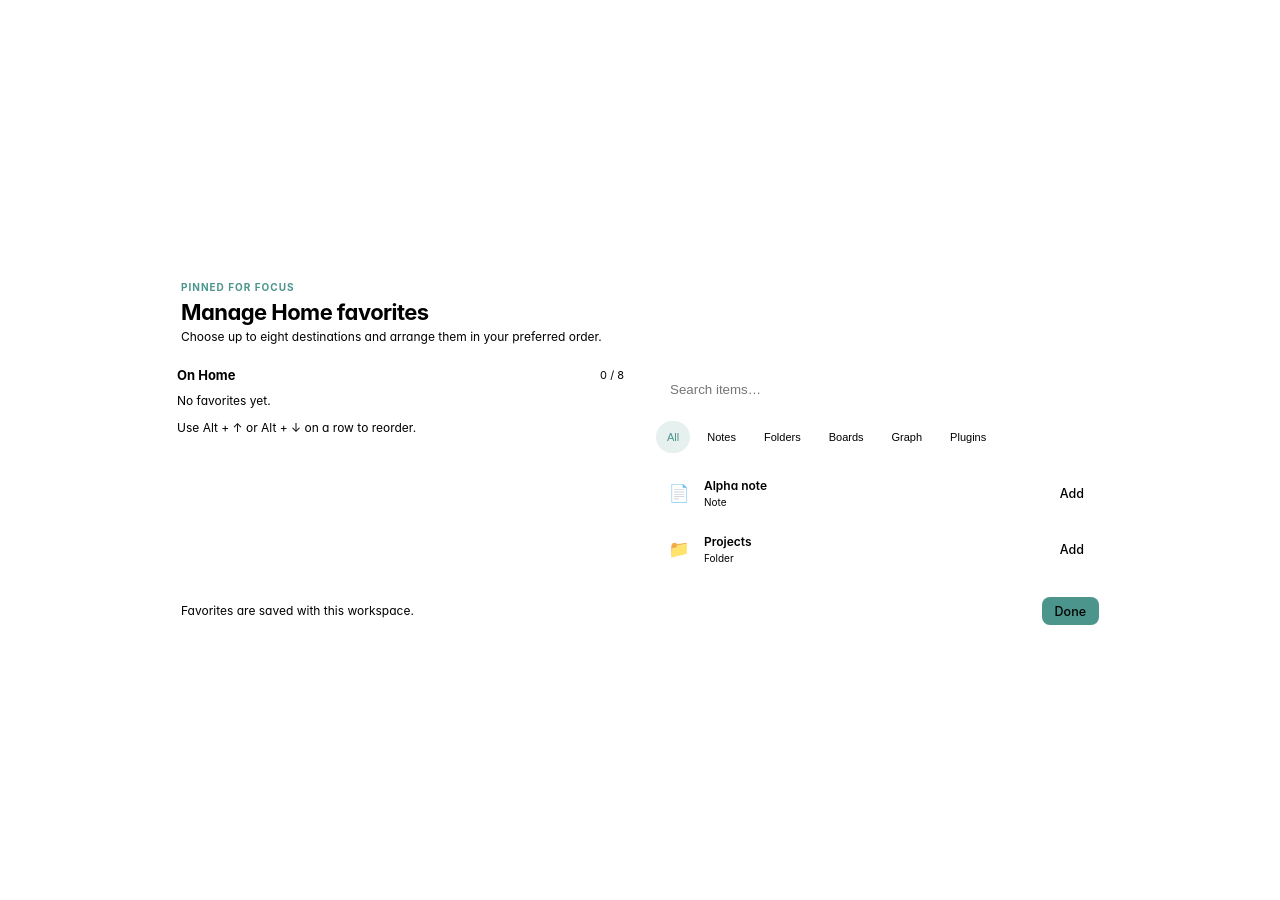
Test case: WorkspaceHomeFavoritesManager › searches and filters the available library
Type "projects" into the search field with placeholder "Search items…" at (880, 389), box left=668, top=380, right=1091, bottom=398
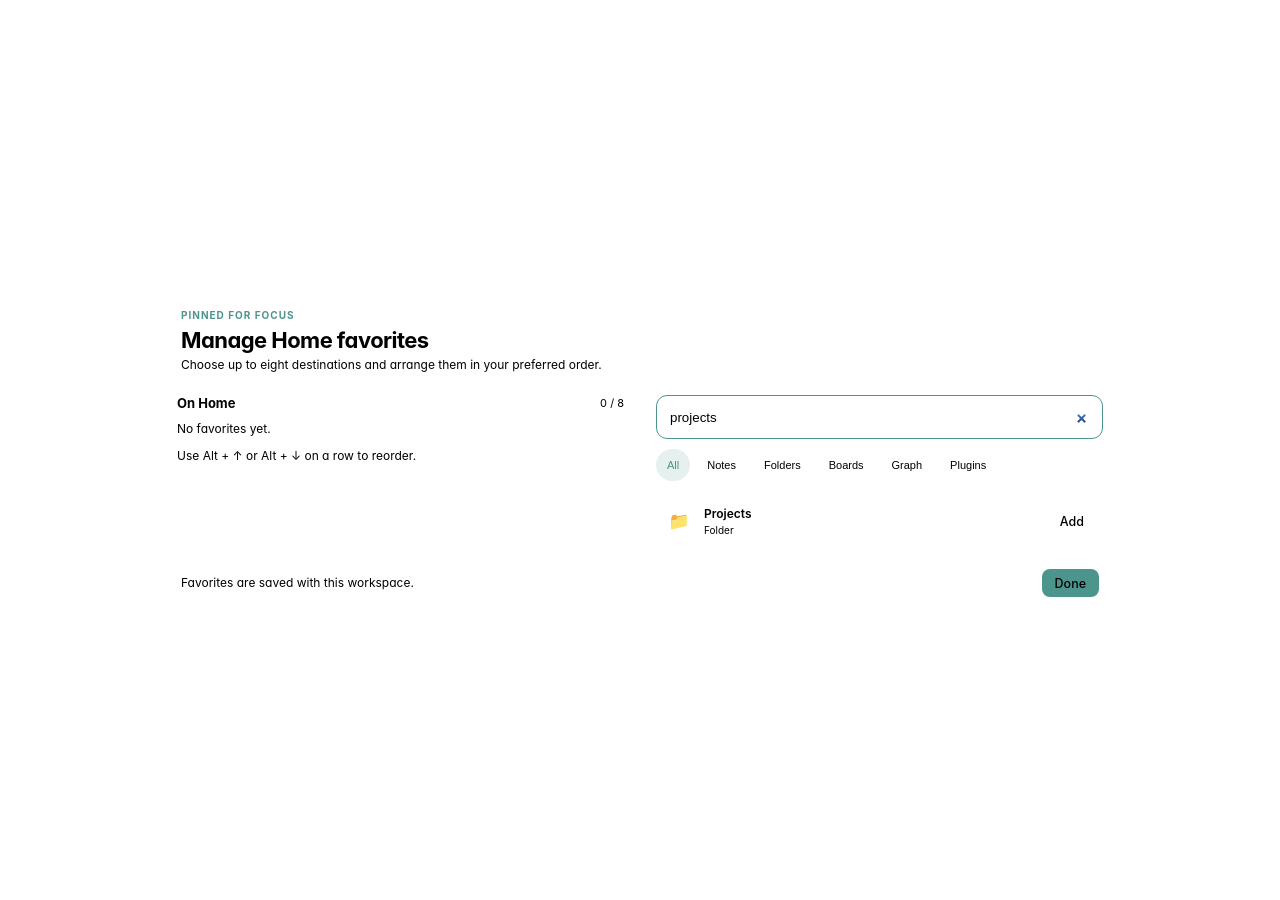
Expected: the text "Projects" is shown, left=704, top=506, right=752, bottom=521
Expected: the text "Alpha note" is gone
Clear the search field at (880, 417), box left=668, top=408, right=1091, bottom=426
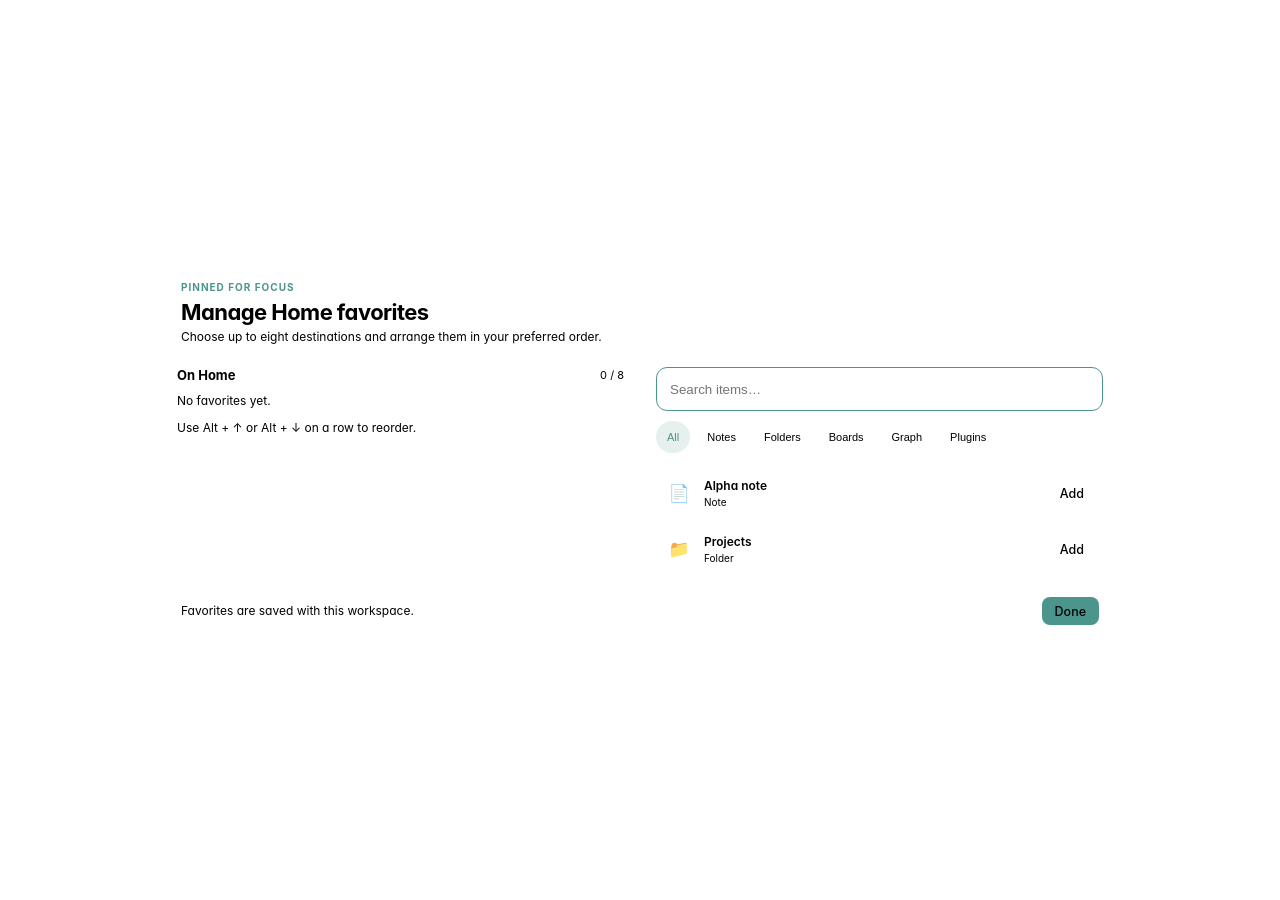
Click the button "Folders" at (782, 437), box left=753, top=421, right=812, bottom=453
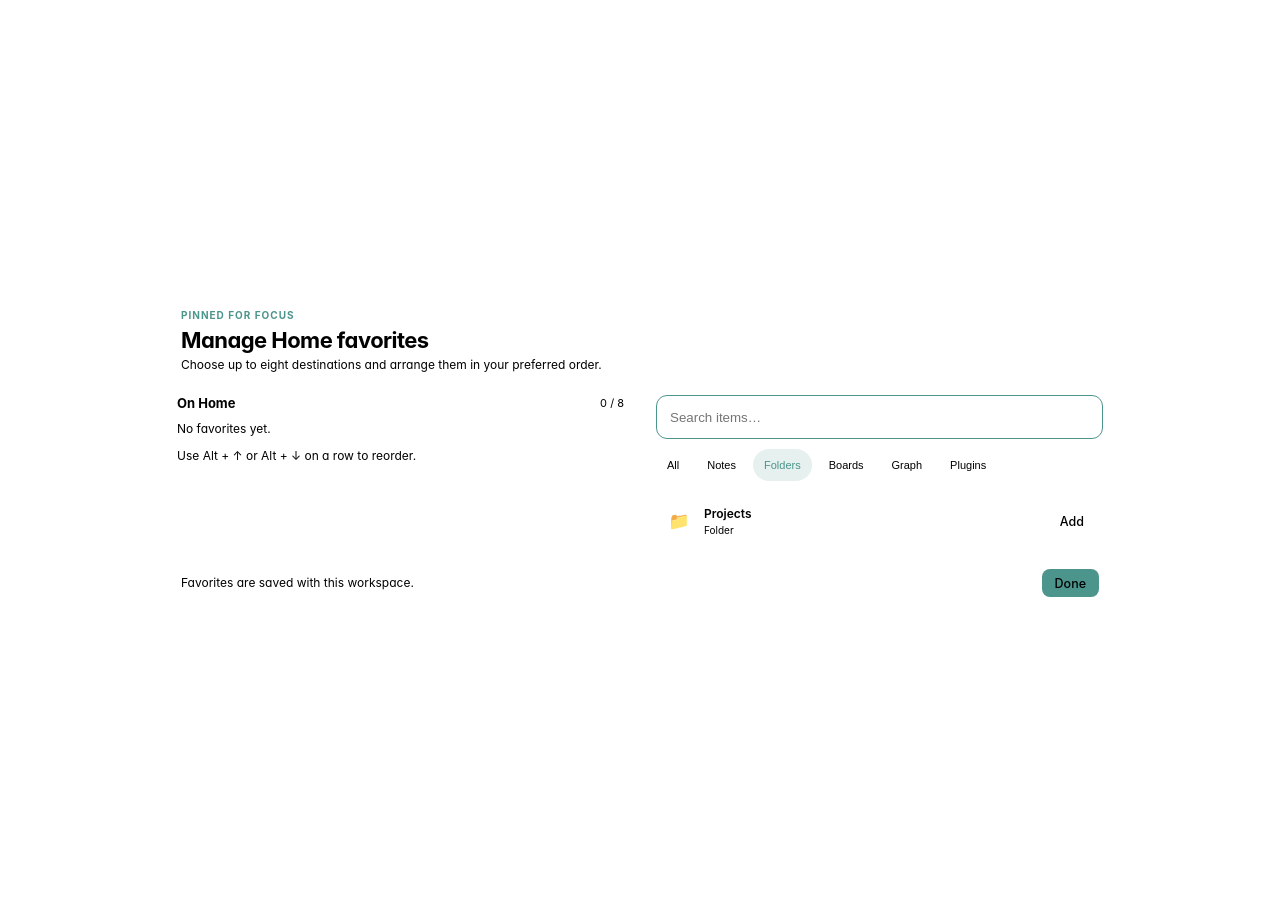
Expected: the text "Projects" is shown, left=704, top=506, right=752, bottom=521
Expected: the text "Alpha note" is gone
